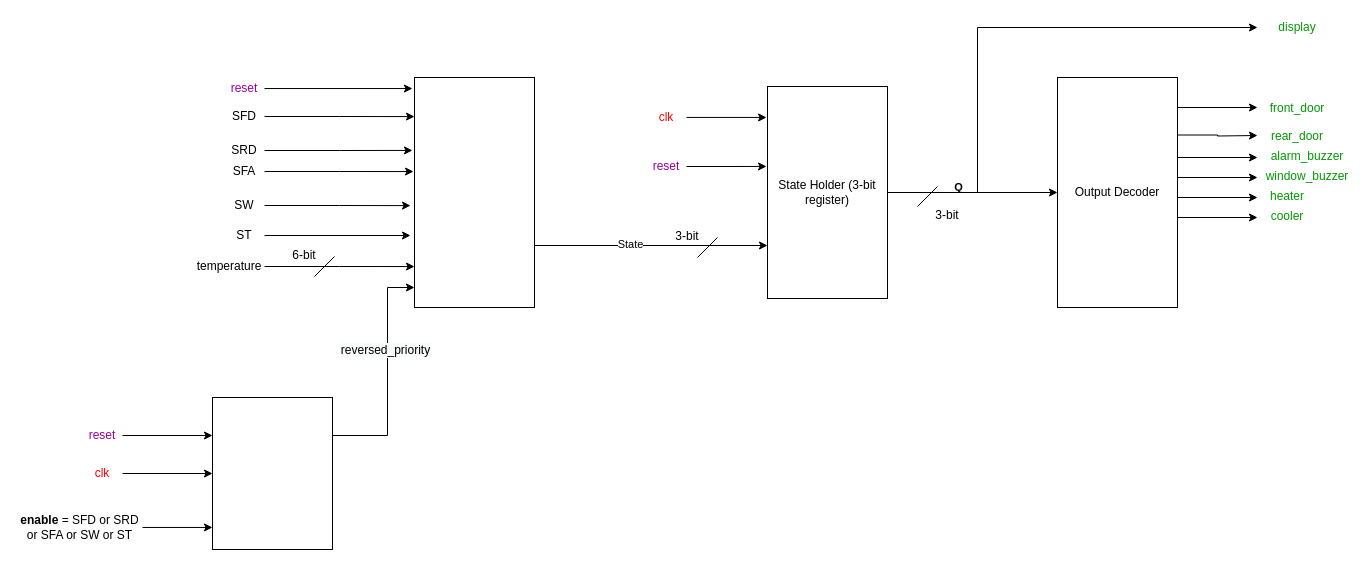
This 1366x567 diagram has some shape labels left out. Each missing label, with the centre of its shape:
"Counter" belongs at (x=272, y=473).
"Priority Encoder" belongs at (x=474, y=192).
